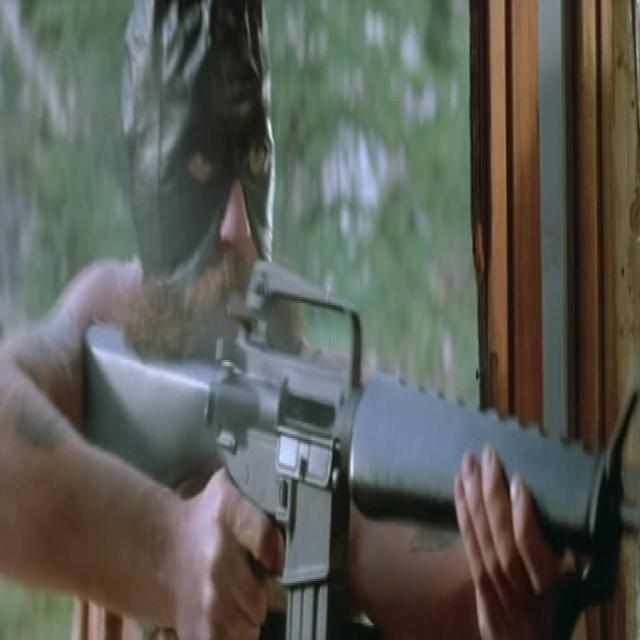gun-knife-thesis - v11 Yolov5 augmented: (83, 250, 640, 638)
